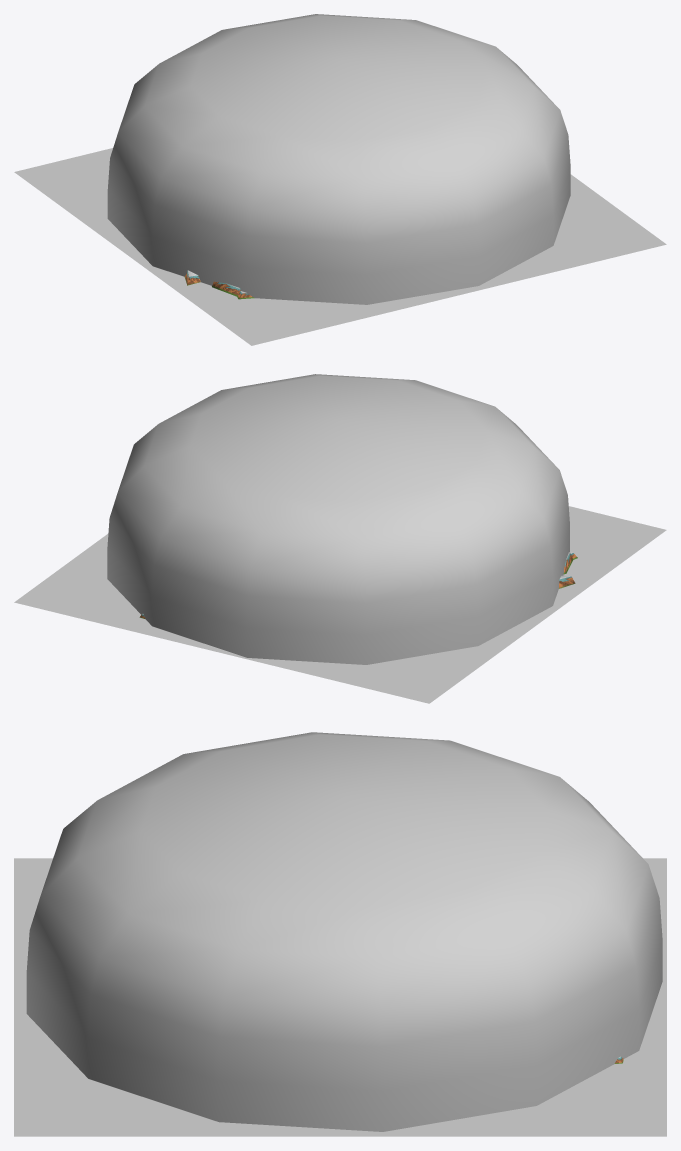
File: nameikexing.FBX
The picture shows the model from 3 angles, top to bottom: view 1: azimuth 30°, elevation 25°; view 2: azimuth 150°, elevation 25°; view 3: azimuth 270°, elevation 25°; orthographic projection. The views are drawn at different scales.
Parts seen in each view (by area): view 1: Object017; view 2: Object017; view 3: Object017.
Part boxes in pixels (bbox=[...]): Object017: bbox=[14, 14, 666, 345]; Object017: bbox=[14, 374, 666, 703]; Object017: bbox=[14, 732, 666, 1136].
Size of the model in its own units: 61518 by 21295 by 60937.
